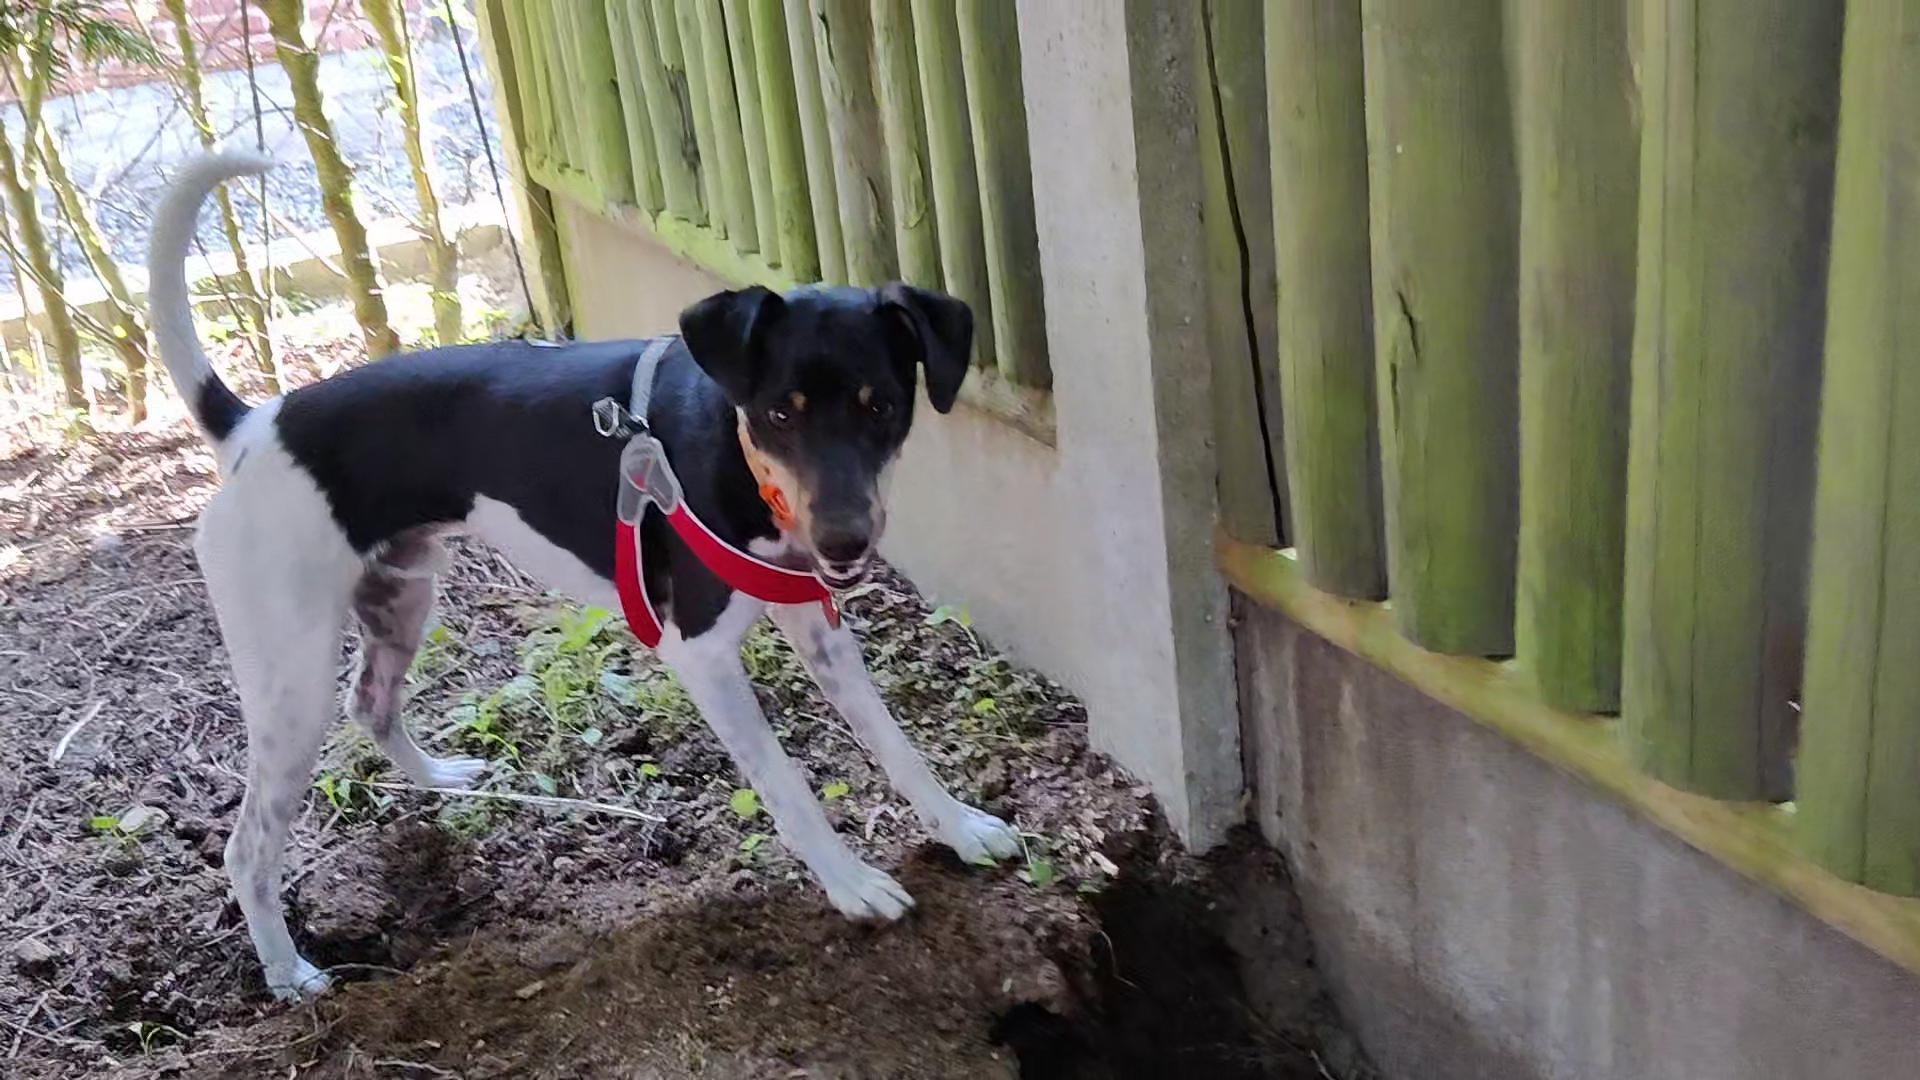Dog: (105, 128, 1051, 1006)
